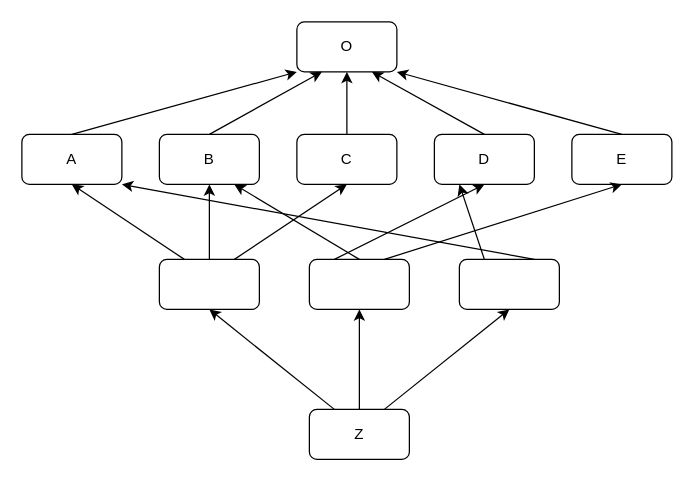
Image size: 694x481. Some labels were removed from this diagram. Each missing label, with the centre of its shape:
"K1" goes at (x=208, y=283).
"K2" goes at (x=358, y=283).
"K3" goes at (x=508, y=283).
